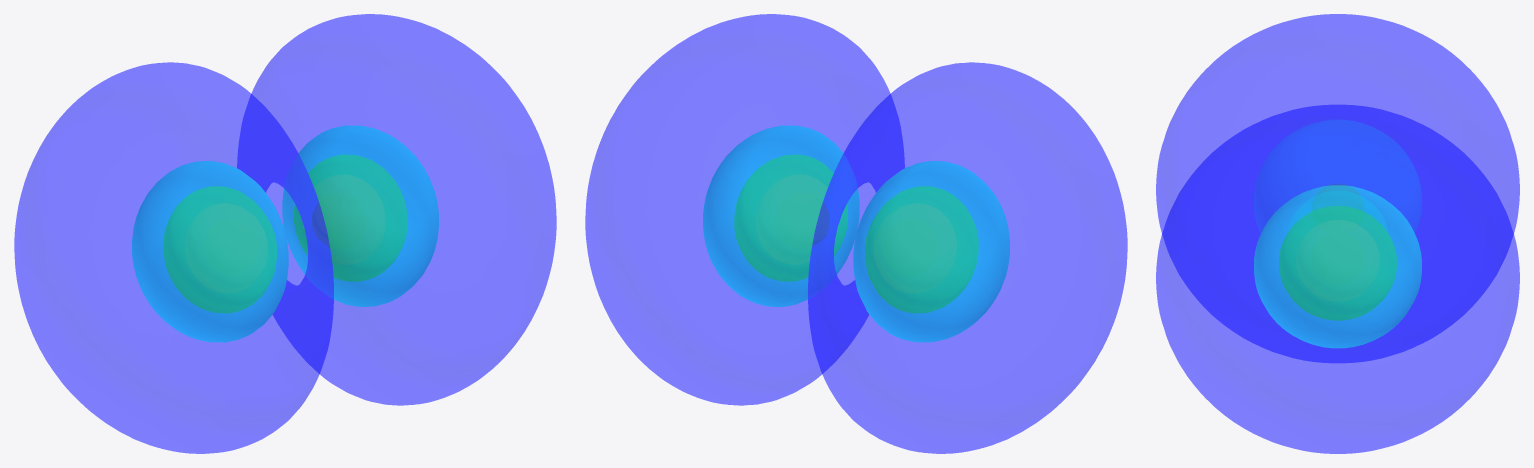
File: orbital_n2_l1_m1_real_multilayer.fbx
3 renders of one model, left to right at view 1: azimuth 30°, elevation 25°; view 2: azimuth 150°, elevation 25°; view 3: azimuth 270°, elevation 25°, orthographic. The views are drawn at different scales.
Parts seen in each view (by area): view 1: orbital_n2_l1_m1_real_multilayer; view 2: orbital_n2_l1_m1_real_multilayer; view 3: orbital_n2_l1_m1_real_multilayer.
Boxes of the visible parts, x1=… form: orbital_n2_l1_m1_real_multilayer: x1=14, y1=14, x2=556, y2=453; orbital_n2_l1_m1_real_multilayer: x1=585, y1=14, x2=1127, y2=453; orbital_n2_l1_m1_real_multilayer: x1=1156, y1=14, x2=1519, y2=453.
Size of the model in its own units: 1962 by 1390 by 1390.
